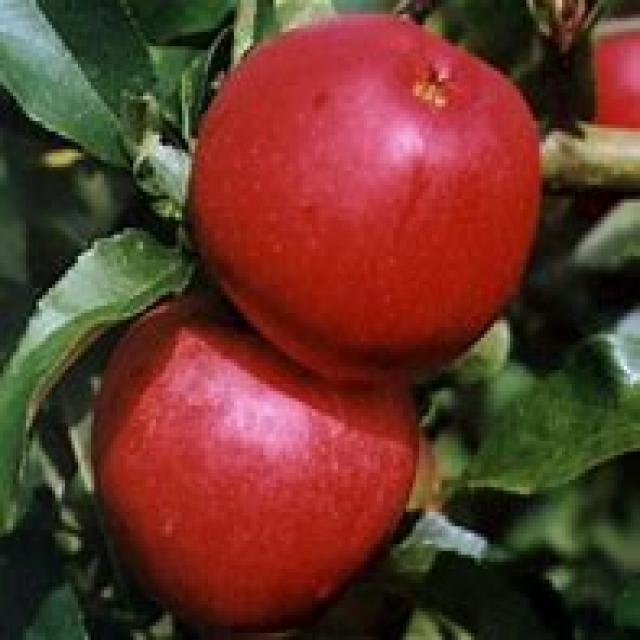apple: (179, 6, 549, 385), (77, 375, 420, 631)
